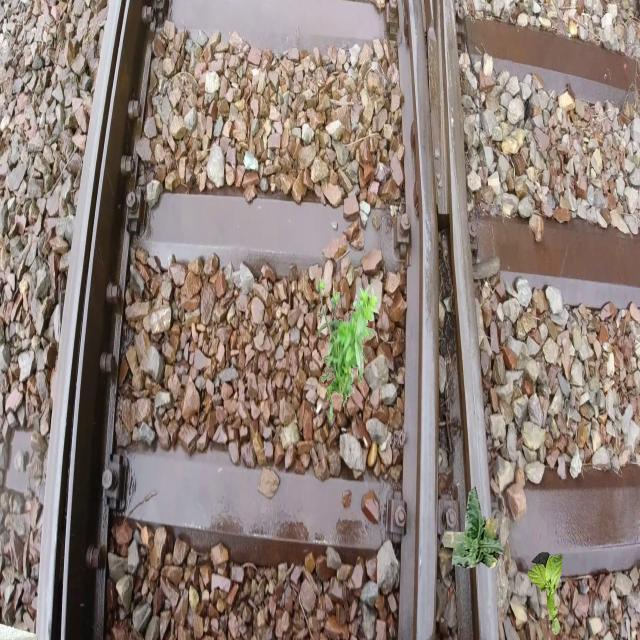Plant: (316, 277, 381, 420), (441, 486, 504, 569), (527, 552, 562, 636)
